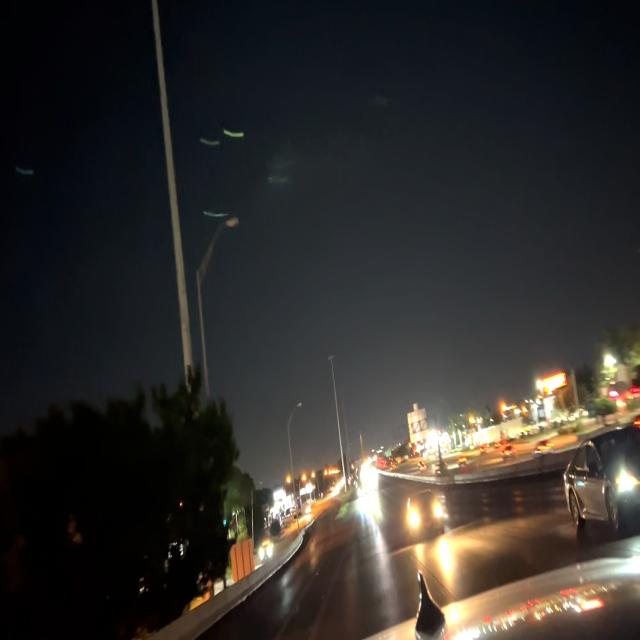back-of-sign: (230, 539, 255, 572)
